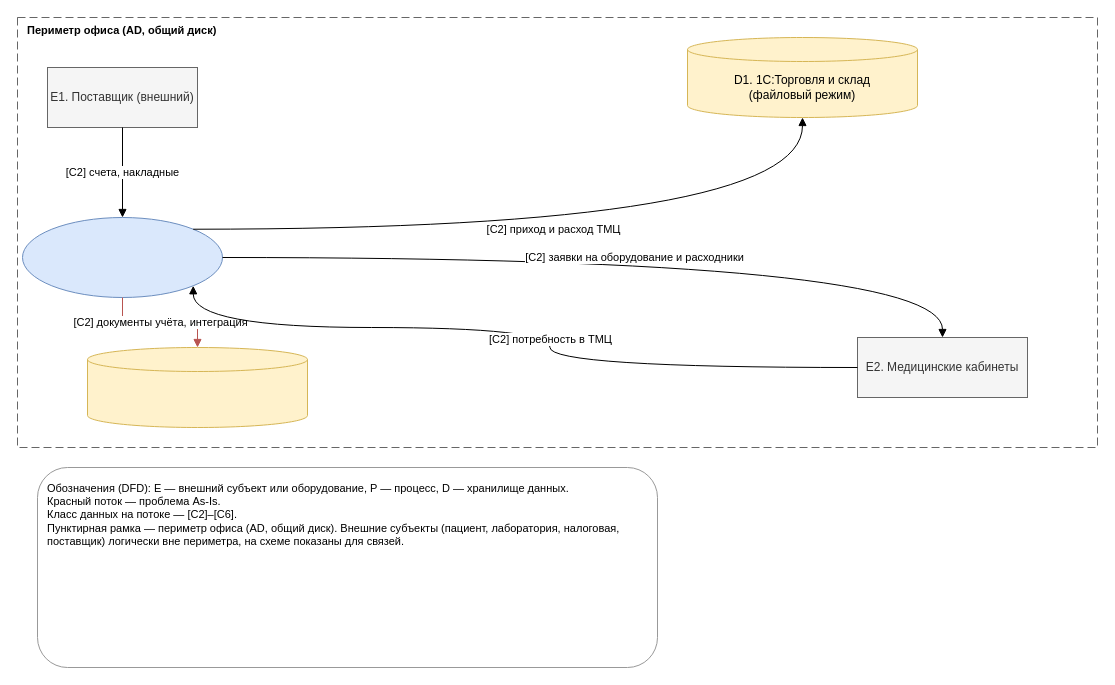
Some shapes in this 1115 by 685 pixel diagram are drawn without their labels. Here are the shapes that lost their labels. From the top down, the centre of each, then its label:
[122,257]: P5.0. Учёт ТМЦ и закупок
[197,387]: D2. 1С:Бухгалтерия (см. процесс 2)
